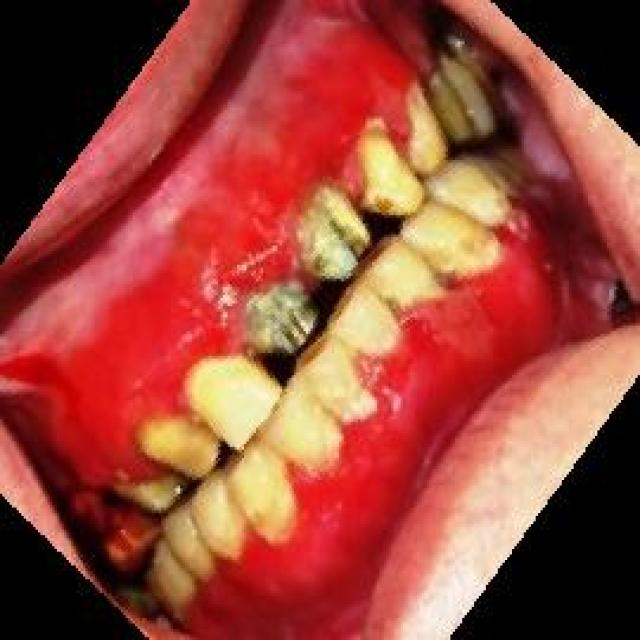caries: (304, 197, 376, 286), (248, 286, 328, 354)
